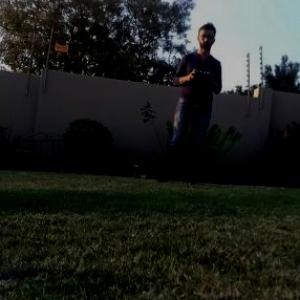follow: (150, 17, 226, 186)
